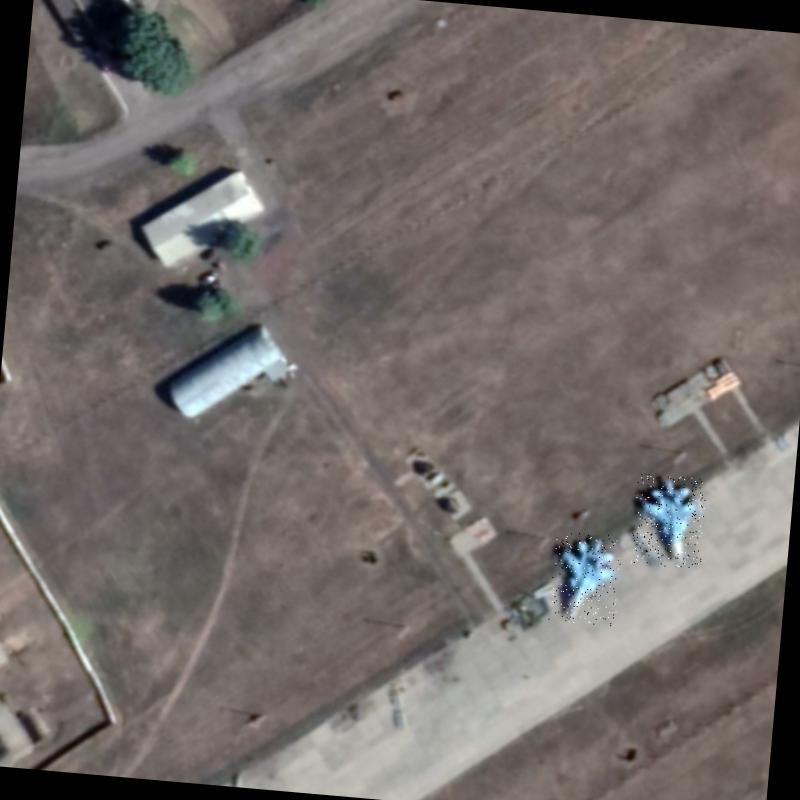A19: (630, 473, 709, 570), (548, 530, 623, 626)
